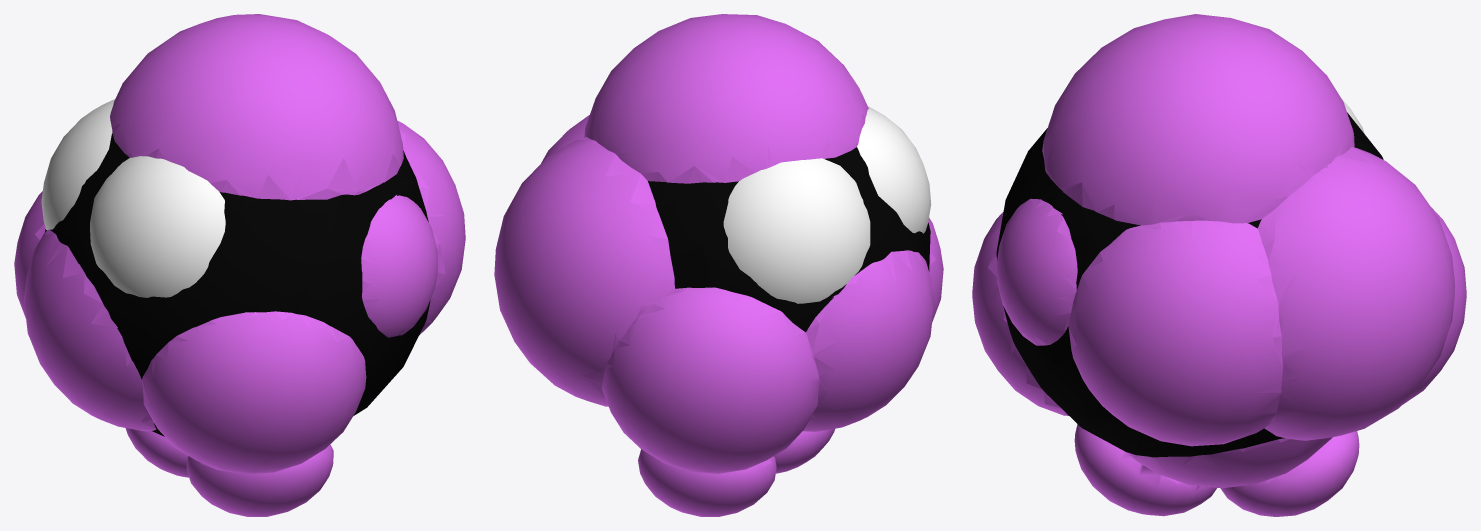
The model's file is CottonCandyMan.FBX.
The picture shows the model from 3 angles, left to right: view 1: azimuth 30°, elevation 25°; view 2: azimuth 150°, elevation 25°; view 3: azimuth 270°, elevation 25°; orthographic projection. The views are drawn at different scales.
Visible parts, largest first — view 1: CottonCandyMan; view 2: CottonCandyMan; view 3: CottonCandyMan.
Boxes of the visible parts, x1,y1,x2,y2 form: CottonCandyMan: (14, 14, 465, 516); CottonCandyMan: (494, 14, 943, 516); CottonCandyMan: (972, 14, 1466, 516).
Bounding box in the file's own units: 34.94 × 39.17 × 36.06.
